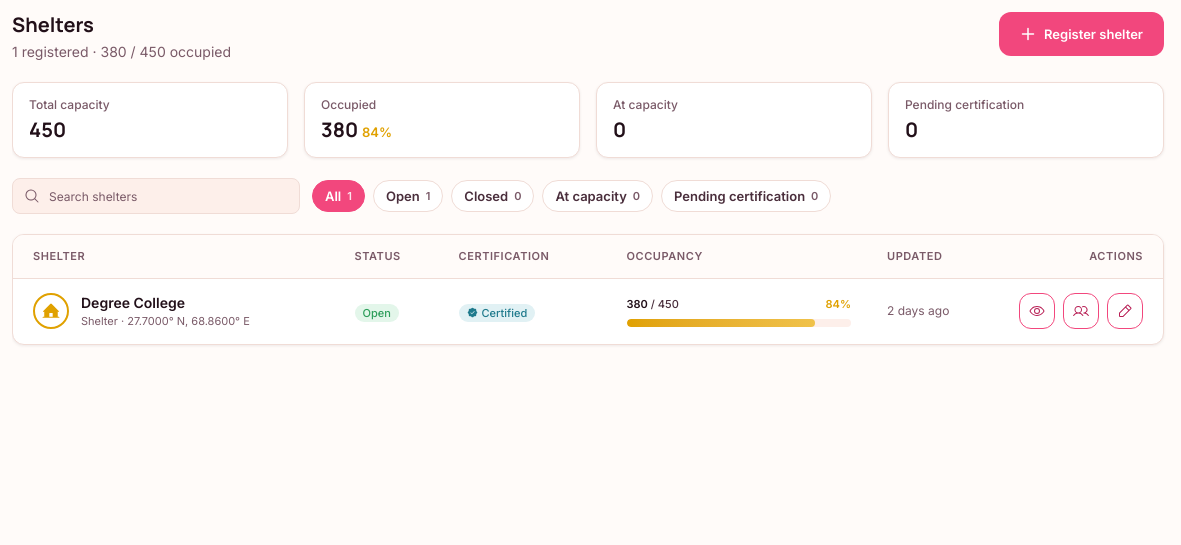
Test: NgoSheltersPage › finding shelters › says so — with a way back — when nothing matches
Expected: the text "Degree College" is shown, [81,294,185,311]
Type "zzz" into the search field at (156, 196), box [12,178,300,214]
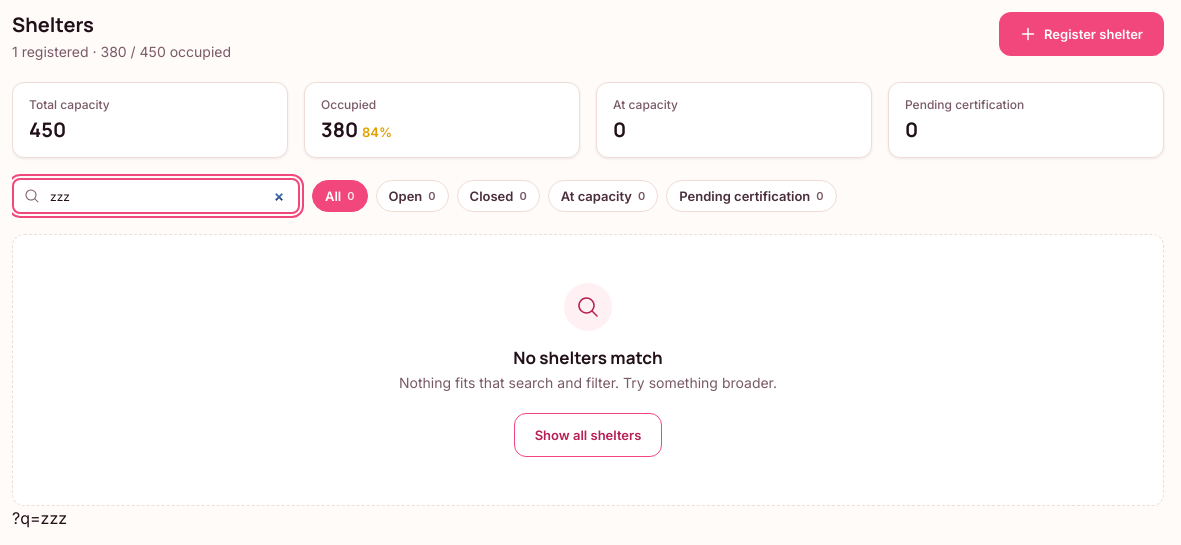
Expected: the heading "No shelters match" is shown, [513,347,663,369]
Click the button named "Show all shelters" below "No shelters match" at (588, 435), box [514,413,662,457]
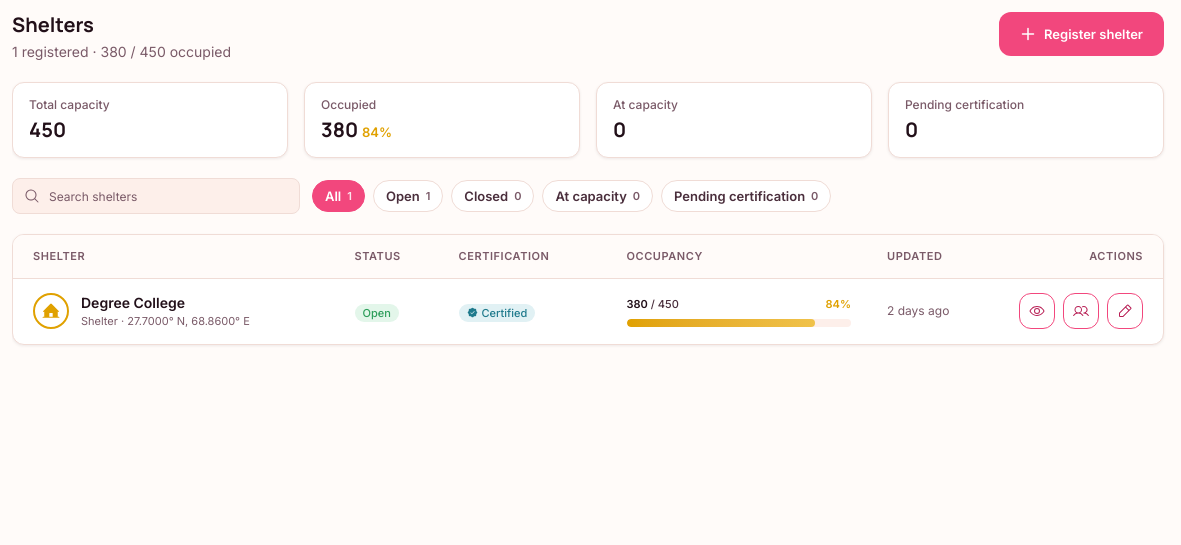
Expected: the text "Degree College" is shown, [81,294,185,311]
Expected: the search field is empty, [12,178,300,214]
